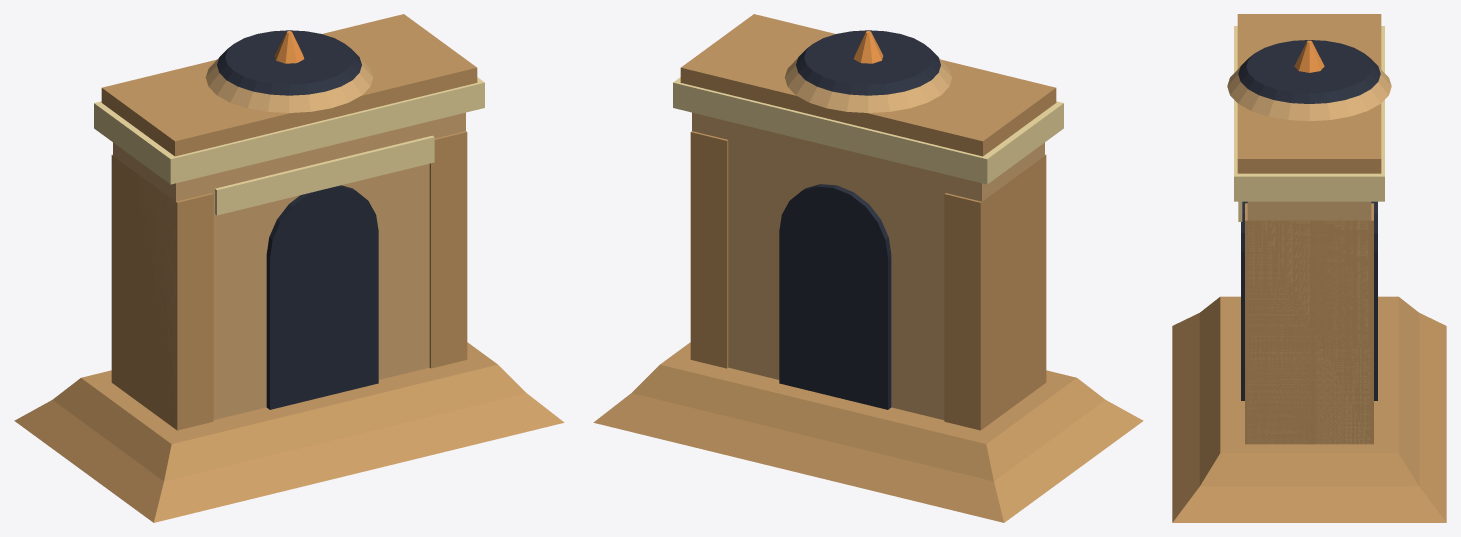
File: india-gate.glb
3 renders of one model, left to right at view 1: azimuth 30°, elevation 25°; view 2: azimuth 150°, elevation 25°; view 3: azimuth 270°, elevation 25°, orthographic.
Parts seen in each view (by area): view 1: india-gate; view 2: india-gate; view 3: india-gate.
Part boxes in pixels (box(x1,y1,x2,y2)): india-gate: box(14, 14, 564, 522); india-gate: box(593, 14, 1143, 522); india-gate: box(1172, 14, 1446, 522).
Size of the model in its own units: 4.42 by 4 by 2.6.
